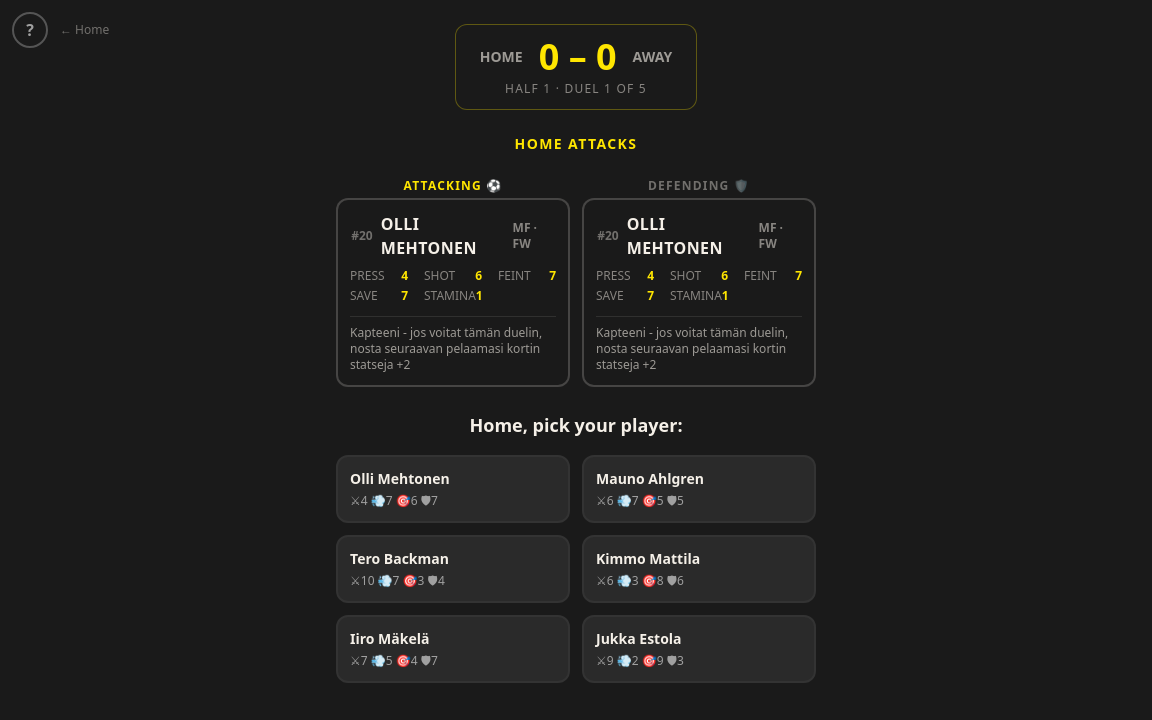
Test: DuelScreen › shows cover screen after attacker picks a character and card
Click the button with test id "char-btn-": (453, 489) [336,455,570,523]
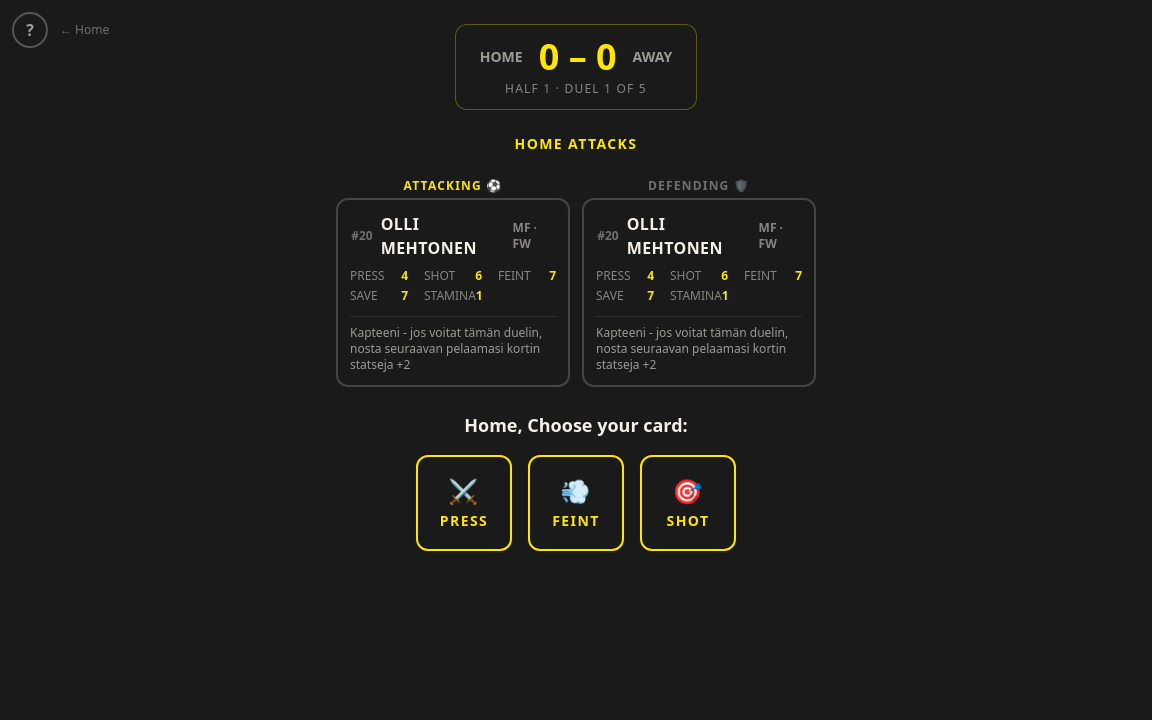
Click the button with test id "card-btn-press": (464, 503) [416,455,512,551]
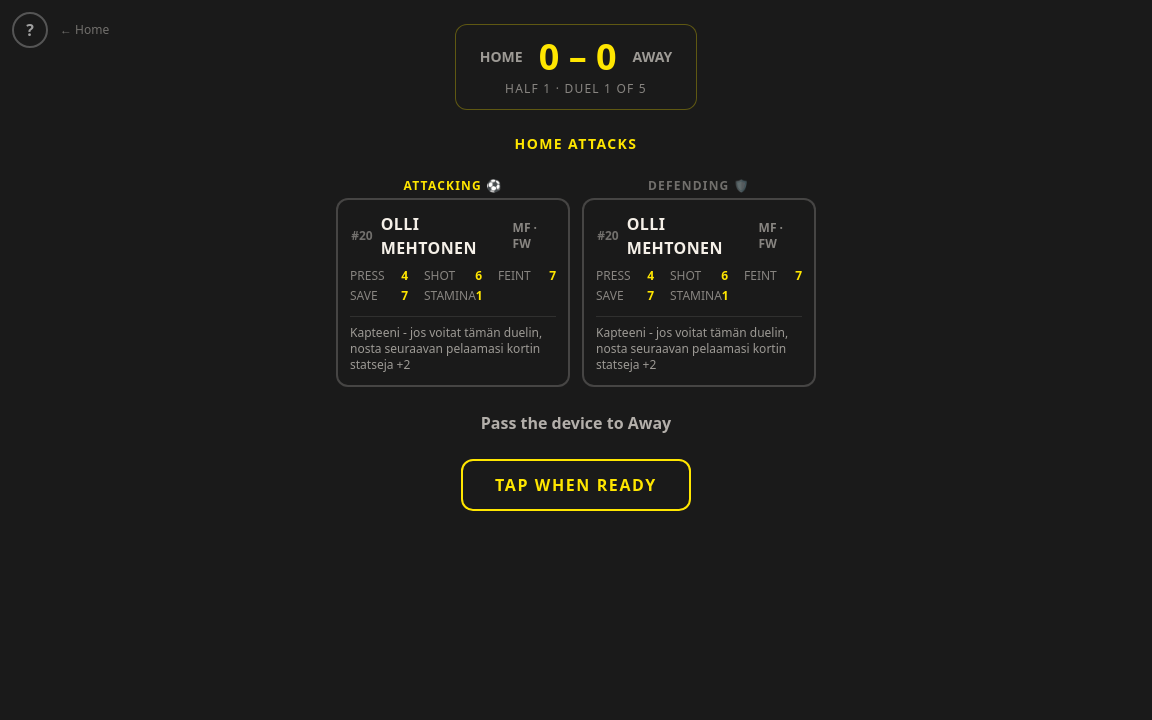
expect the button with test id "cover-continue-btn" is shown: met, box [461,459,691,511]
